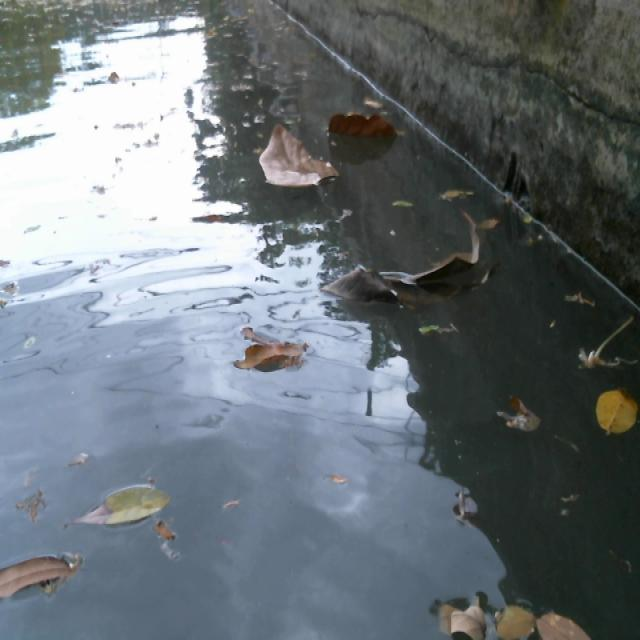Big-leaf: (310, 218, 499, 308), (258, 124, 360, 197), (228, 323, 311, 399), (315, 109, 405, 149)
Small-leaf: (86, 458, 175, 543), (0, 553, 78, 621), (598, 365, 640, 441), (498, 396, 553, 446), (539, 599, 592, 640), (436, 173, 487, 206), (560, 284, 608, 318), (500, 597, 533, 640), (405, 317, 464, 338), (438, 614, 482, 640), (393, 191, 425, 225), (362, 91, 398, 121)
